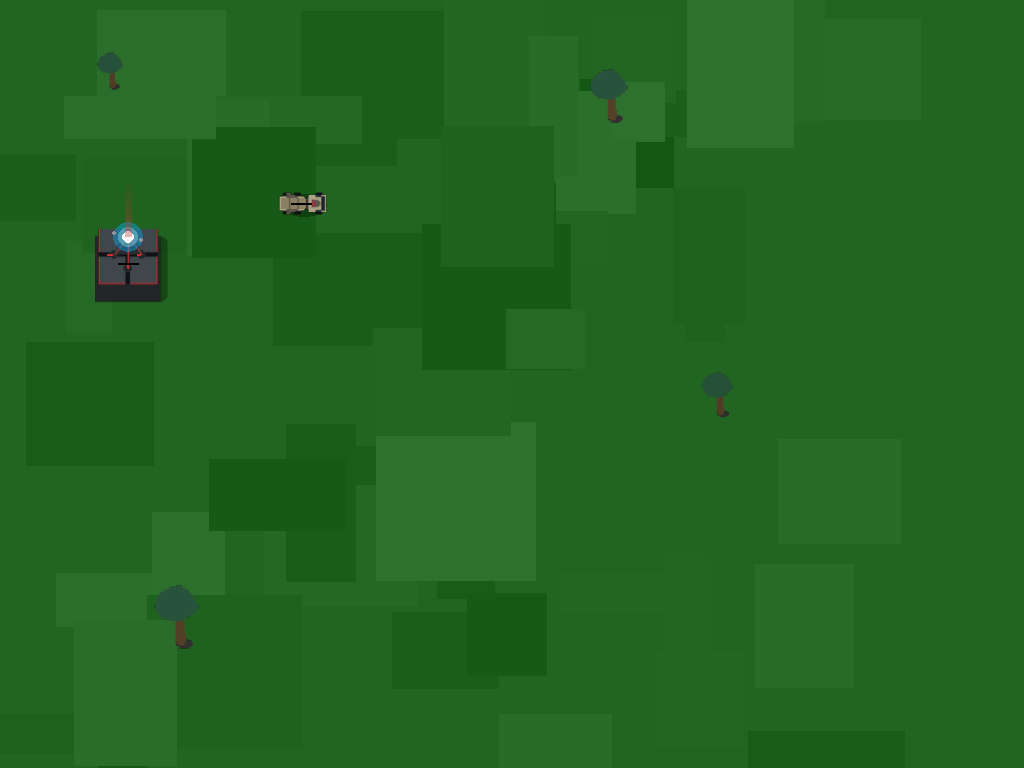HIMARS: (276, 178, 324, 226)
ResearchCenter: (89, 223, 166, 300)
